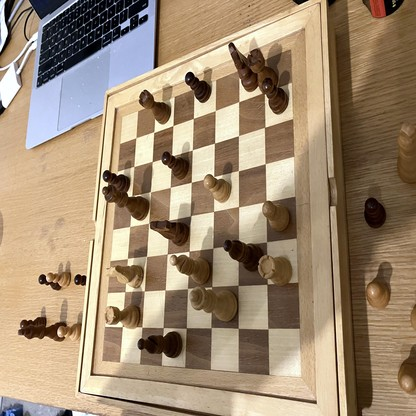bishop_black: (137, 332, 182, 359), (224, 239, 262, 270)
bishop_white: (169, 255, 210, 285)
king_black: (19, 323, 67, 342)
king_white: (398, 125, 416, 184)
knight_black: (229, 42, 256, 90), (150, 220, 188, 245)
knight_white: (105, 267, 143, 288)
pawn_black: (261, 79, 288, 114), (185, 72, 211, 102), (161, 153, 189, 180), (364, 199, 386, 228), (103, 170, 129, 190), (21, 318, 46, 329)
pawn_white: (204, 175, 230, 202), (262, 204, 290, 229), (367, 284, 390, 309), (398, 364, 416, 394), (57, 325, 82, 340), (46, 273, 71, 288)
queen_black: (103, 186, 149, 220)
queen_white: (189, 285, 238, 322)
rock_black: (248, 50, 278, 91), (139, 90, 170, 124)
rock_white: (258, 255, 292, 285), (104, 306, 140, 329)
